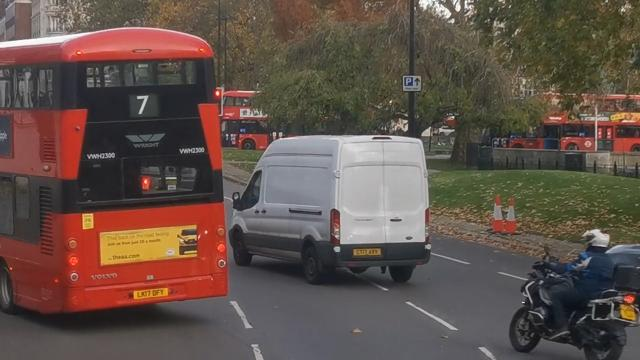bus: (0, 28, 216, 322), (536, 97, 640, 153), (219, 90, 274, 149), (493, 117, 578, 150)
car: (434, 125, 456, 136)
motorcycle: (510, 235, 638, 357)
truck: (230, 136, 431, 284)
